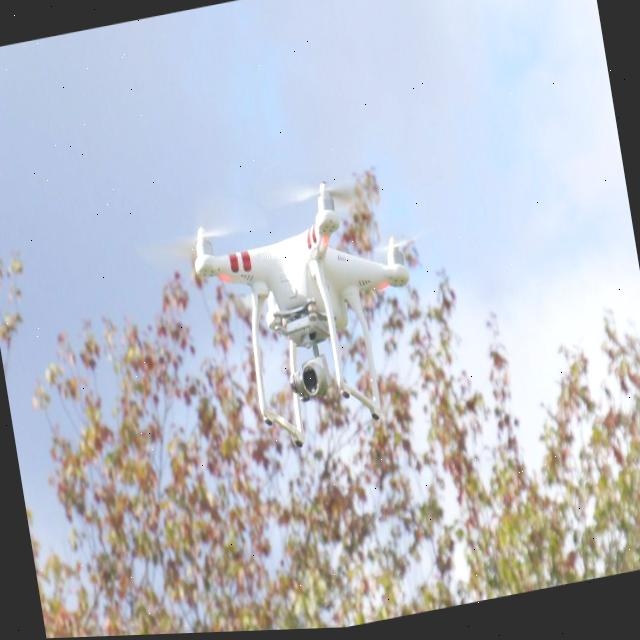drone: (177, 163, 436, 458)
